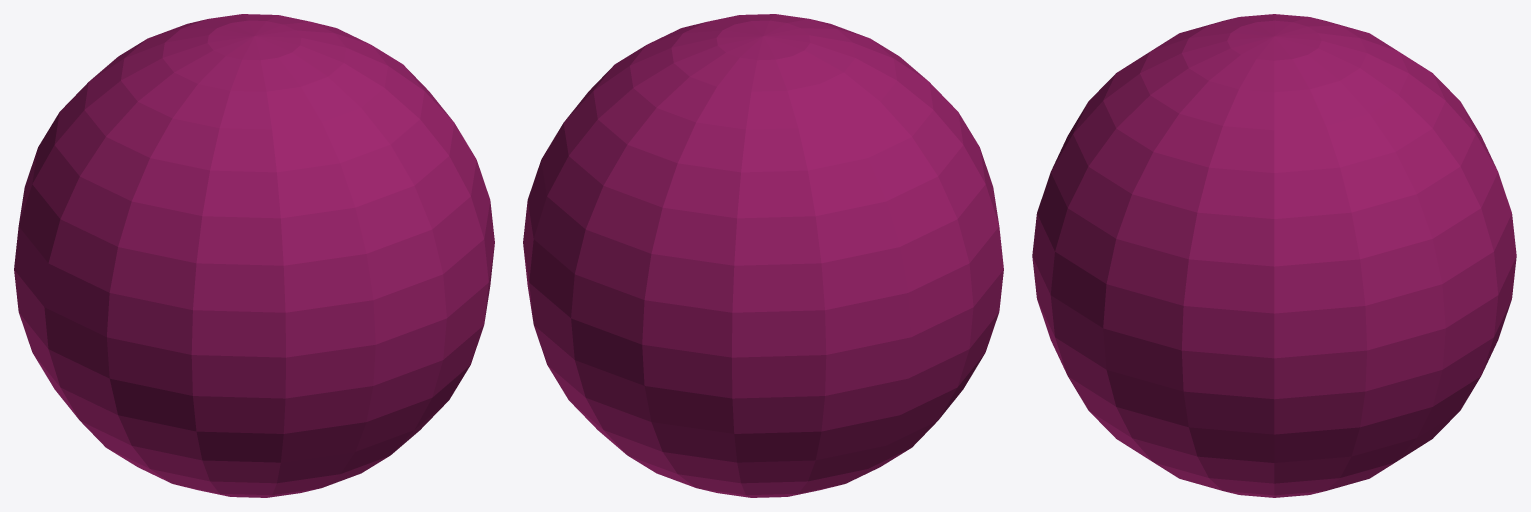
The model's file is ball.glb.
3 renders of one model, left to right at view 1: azimuth 30°, elevation 25°; view 2: azimuth 150°, elevation 25°; view 3: azimuth 270°, elevation 25°, orthographic.
Parts seen in each view (by area): view 1: Sphere; view 2: Sphere; view 3: Sphere.
Part boxes in pixels (<box>): Sphere: <box>14,14,494,497</box>; Sphere: <box>523,14,1003,497</box>; Sphere: <box>1032,14,1516,497</box>.
Bounding box in the file's own units: 2 × 2 × 2.
